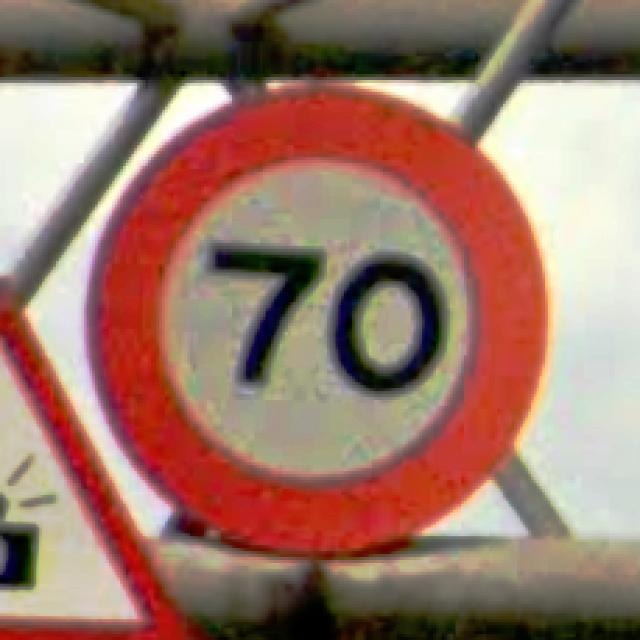max70: (81, 77, 553, 560)
